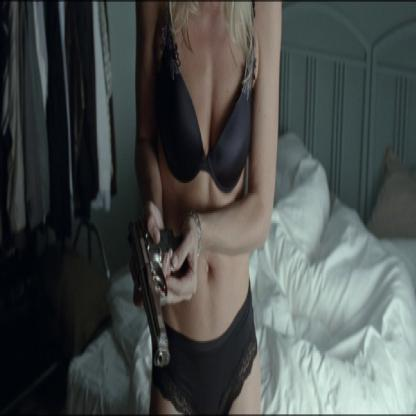Gun: (121, 205, 193, 389)
